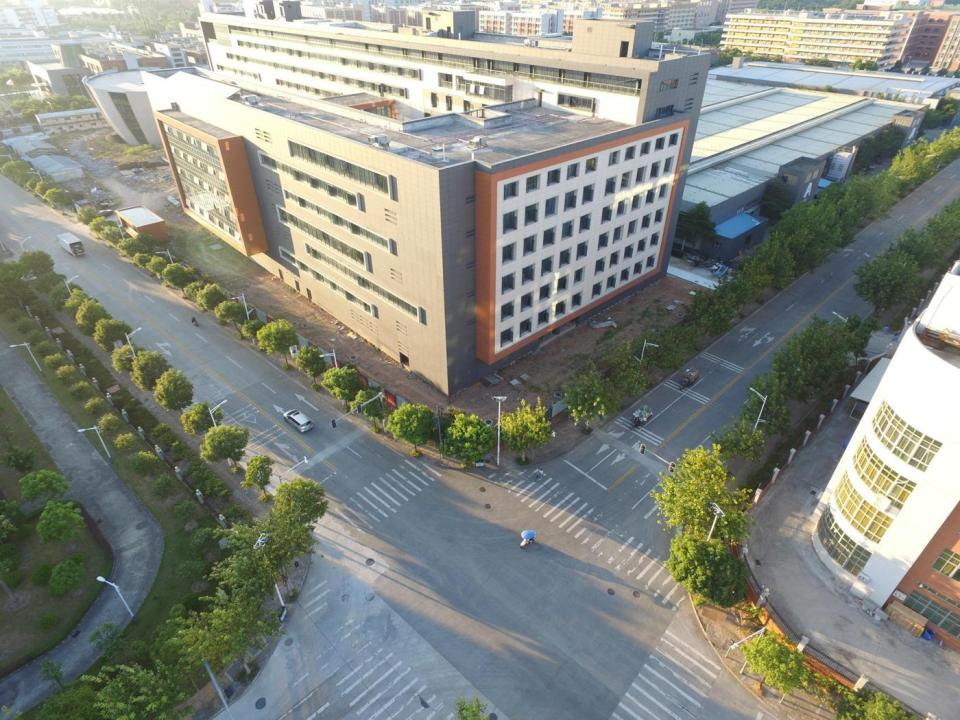car: (282, 407, 316, 433)
truck: (56, 232, 86, 257)
